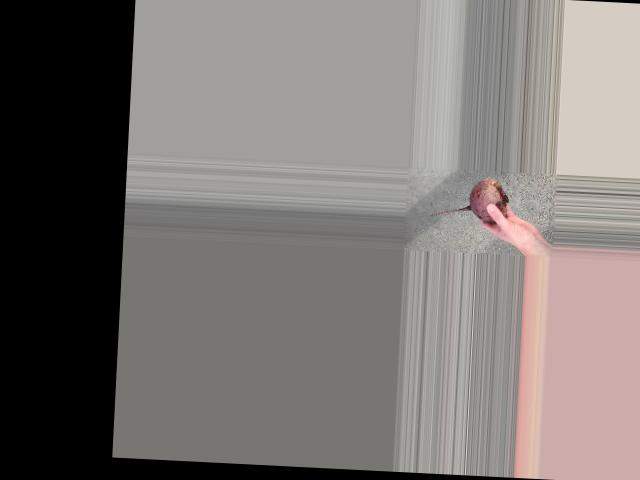beet: (429, 175, 509, 222)
